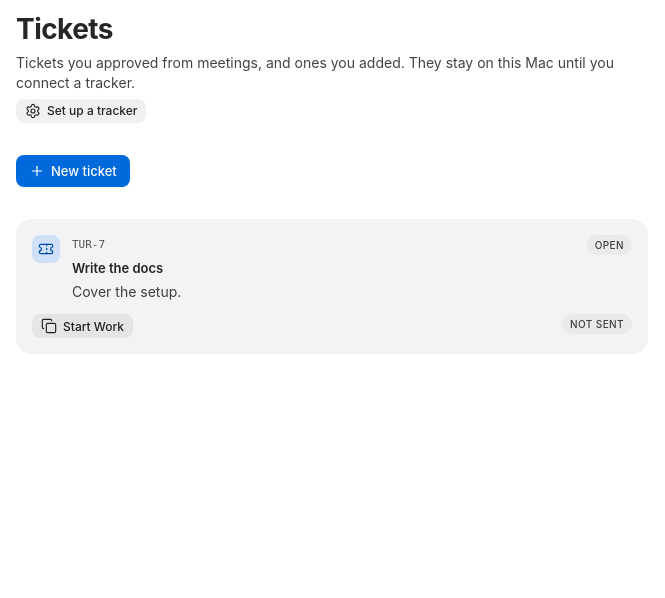
Tickets › creating a ticket sends title and body and shows it first
This screenshot has width=665, height=598.
Click the button "New ticket".
click(73, 171)  # box [16, 155, 130, 187]
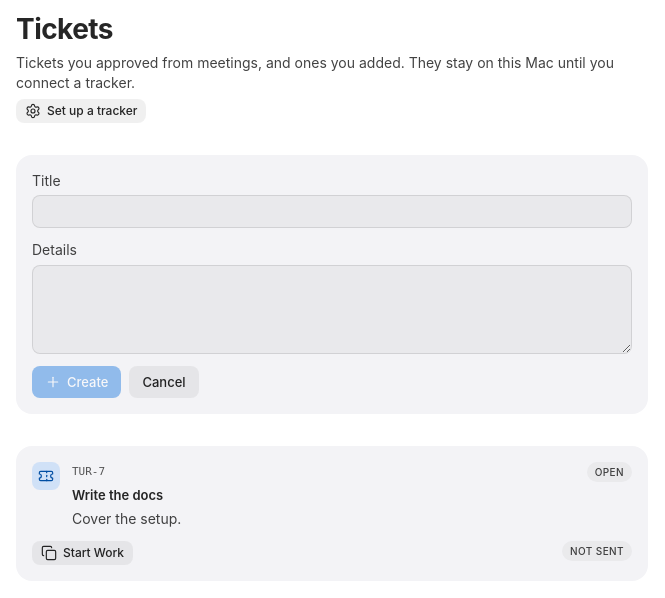
Type "Fresh one" into the field labelled "Title".
click(332, 212); type("Fresh one")  # box [32, 196, 632, 228]
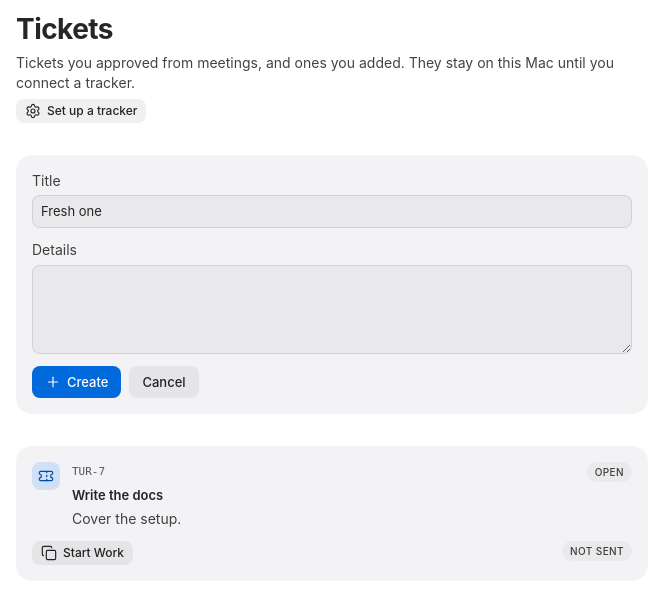
Type "Details" into the text box labelled "Details".
click(332, 309); type("Details")  # box [32, 265, 632, 354]
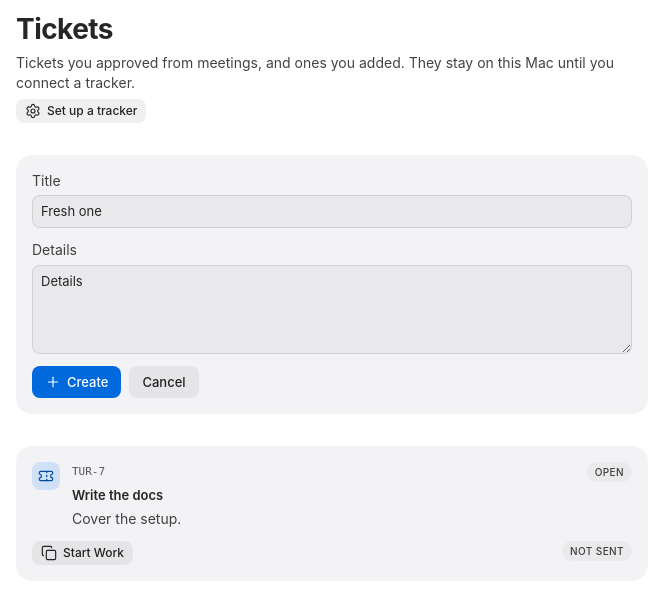
Click the button "Create".
click(77, 382)  # box [32, 366, 121, 398]
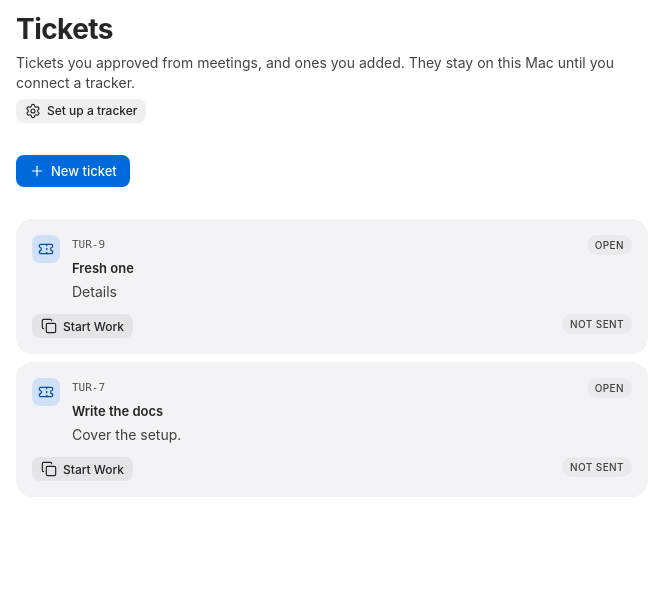
Check: the text "TUR-9" is shown, box [72, 237, 105, 253]
Check: the label labelled "Title" is gone
Check: the headings read "Fresh one", "Write the docs", in this order, box [72, 260, 134, 276]; [72, 403, 163, 419]
